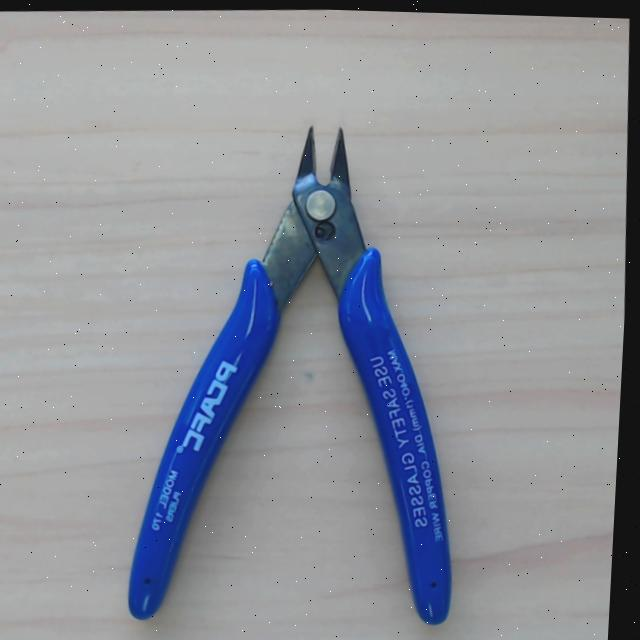Tang-Potong-Biru: (128, 121, 467, 631)
